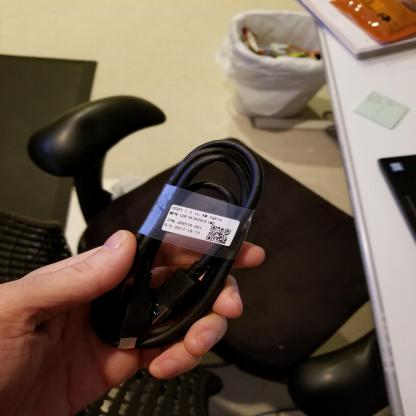qr: (200, 221, 235, 245)
